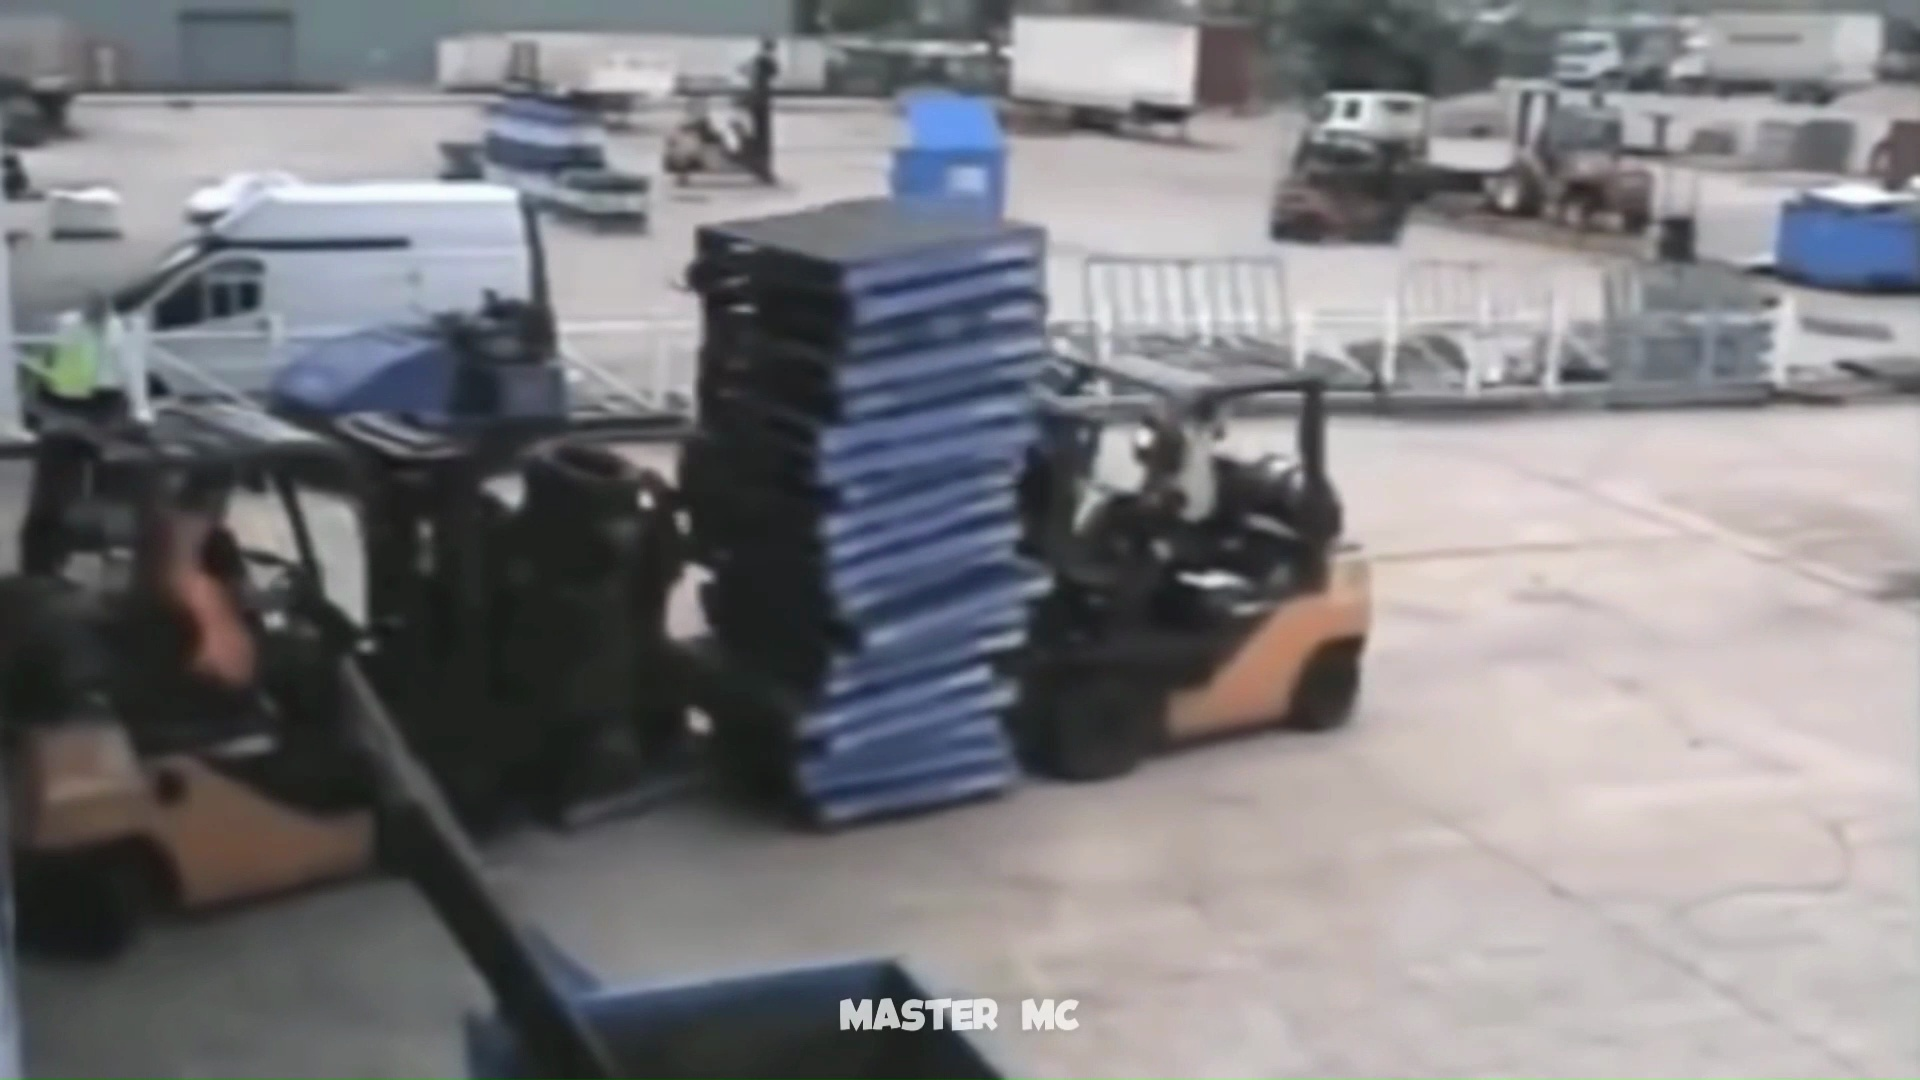forklift: (691, 207, 1381, 819), (1, 388, 758, 922)
